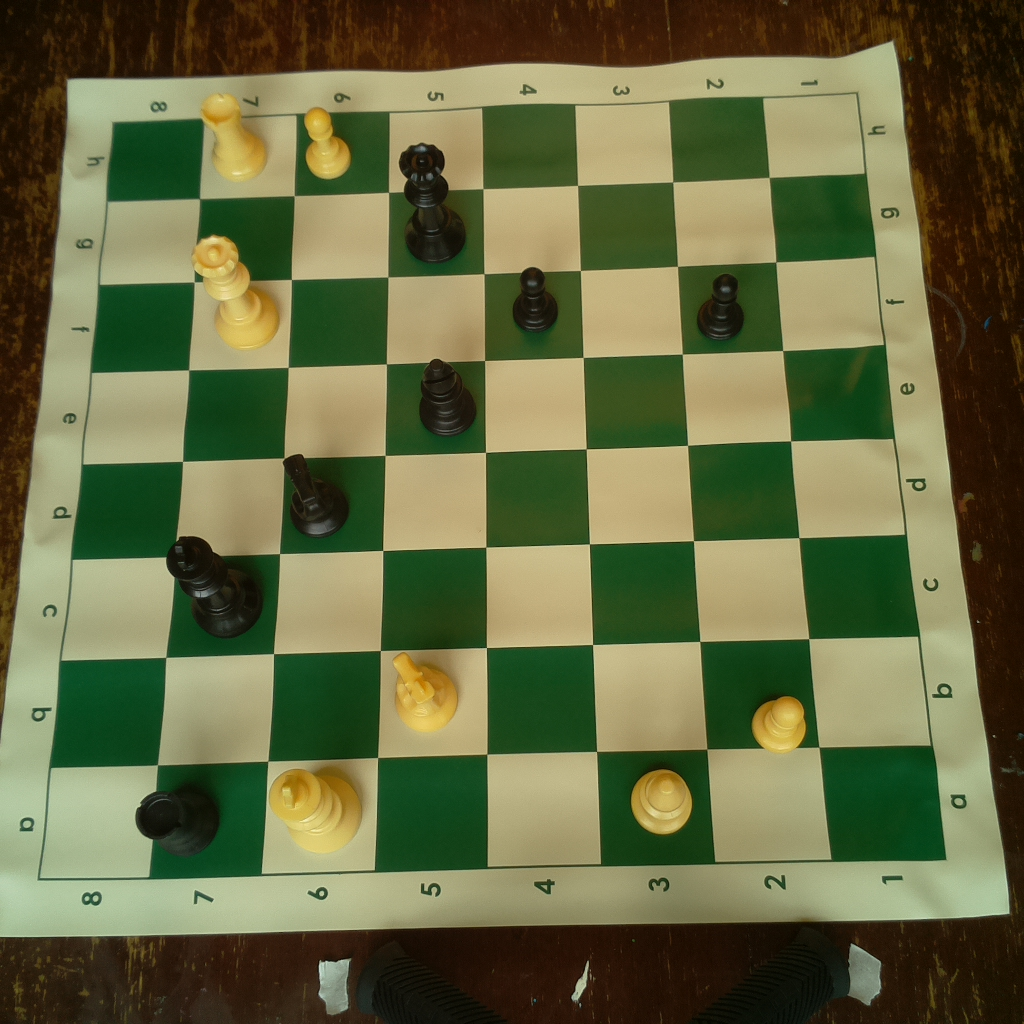black_bishop: (414, 354, 479, 436)
black_king: (164, 535, 264, 640)
black_knight: (276, 448, 354, 541)
black_pawn: (696, 270, 758, 345), (505, 264, 563, 334)
black_queen: (396, 138, 470, 265)
black_rook: (131, 778, 225, 861)
file_a: (41, 745, 945, 882)
file_b: (47, 635, 932, 770)
file_c: (62, 536, 921, 661)
file_d: (71, 439, 907, 561)
file_e: (84, 343, 893, 467)
file_f: (89, 258, 884, 373)
file_g: (99, 173, 877, 284)
file_h: (107, 92, 868, 202)
outline: (34, 93, 947, 883)
rank_1: (763, 93, 949, 862)
rank_2: (668, 93, 832, 866)
rank_3: (576, 101, 715, 866)
rank_4: (483, 104, 603, 867)
rank_5: (373, 105, 489, 877)
rank_6: (260, 113, 392, 875)
rank_7: (150, 113, 298, 880)
rank_8: (37, 121, 208, 878)
white_bishop: (623, 762, 696, 838)
white_king: (266, 761, 364, 853)
white_knight: (385, 644, 463, 731)
white_pawn: (301, 106, 359, 183), (750, 692, 810, 757)
white_queen: (190, 231, 283, 349)
white_rook: (196, 90, 271, 182)
